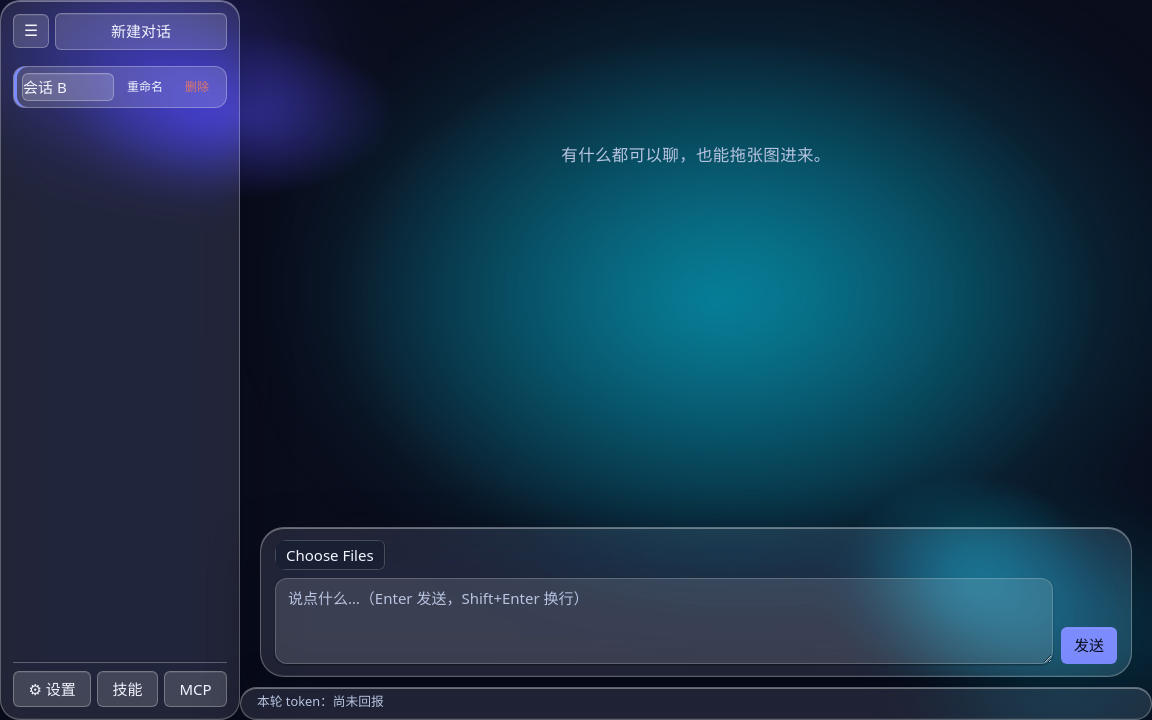
App › re-reads the session list after a turn so the auto-renamed title shows up
The image size is (1152, 720).
In the text box named "输入": [664, 621] box [275,578,1053,664], type "你好"
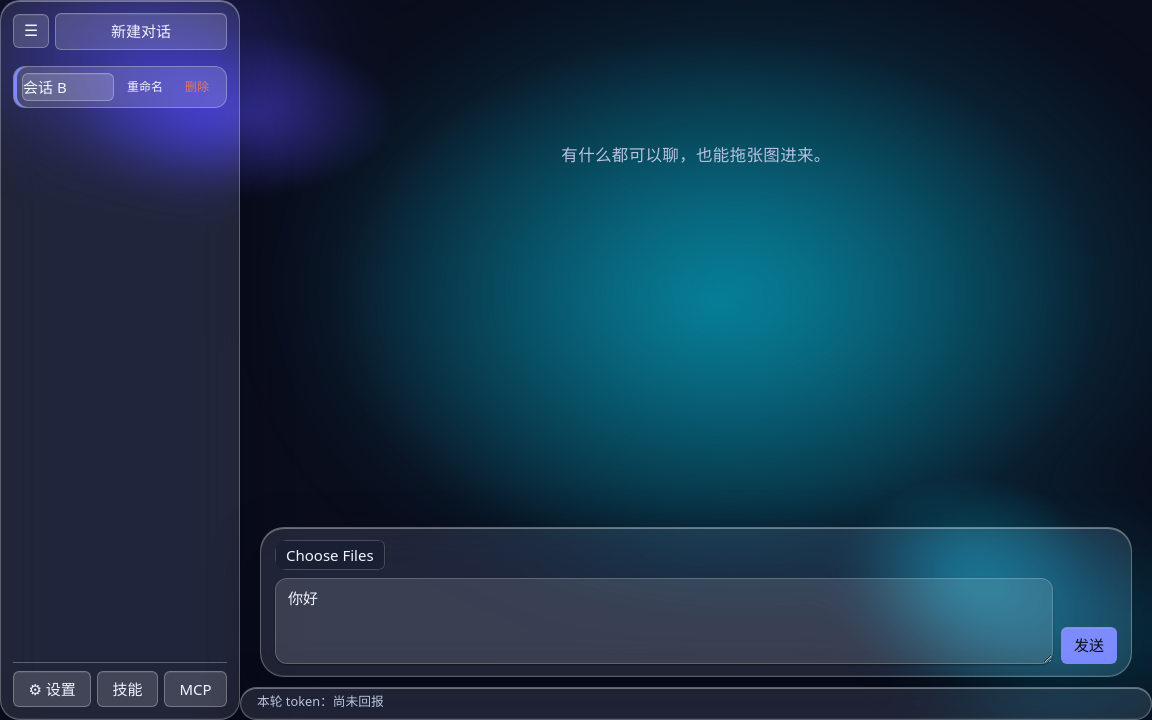
Click the button "发送": [1089, 646] box [1061,627,1117,664]
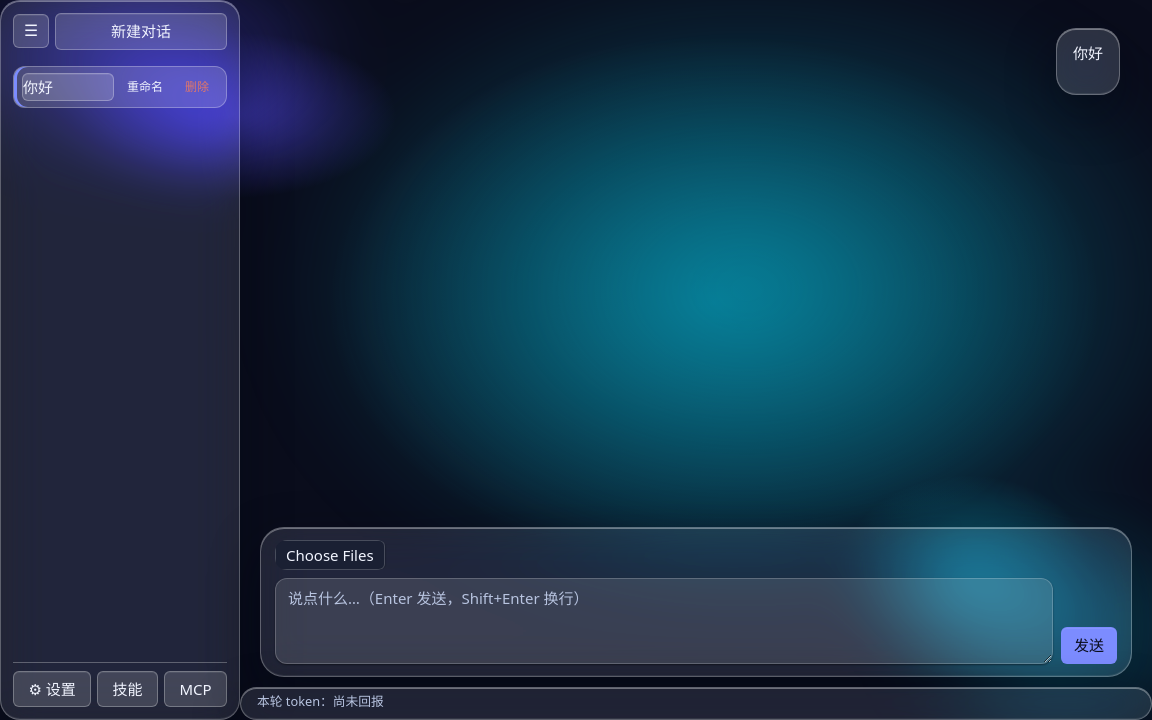
Result: the button "你好" is shown at [22,72,114,101]
